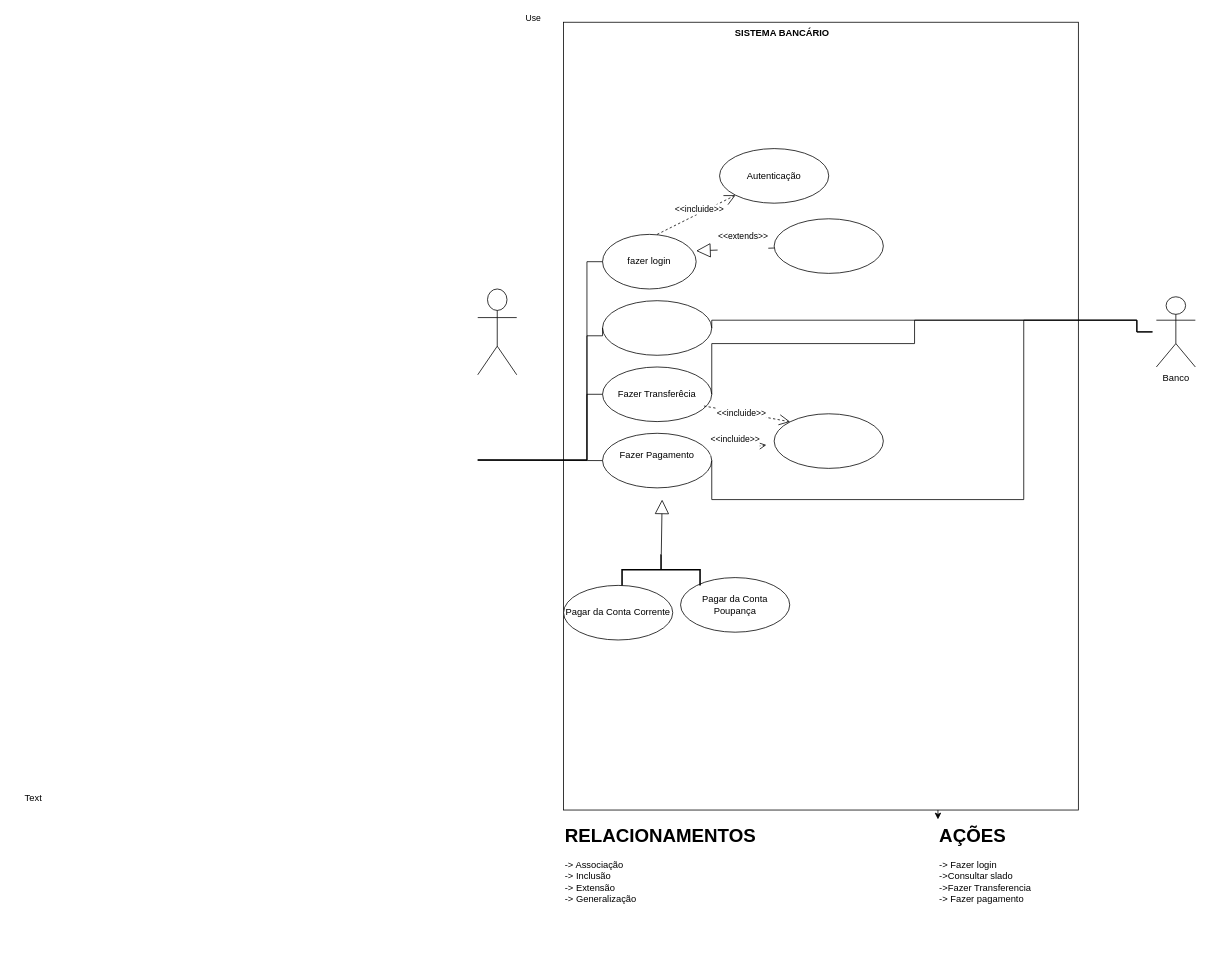
Image size: 1209x968. Some labels were removed from this diagram. The shapes that lost their labels are listed below. From the top down, each one's centre as x and y in pixels, then its label:
At point 828,245: "Login Inválido".
At point 497,331: "Cliente".
At point 657,327: "Consultar salado".
At point 828,440: "Verificar saldo".
